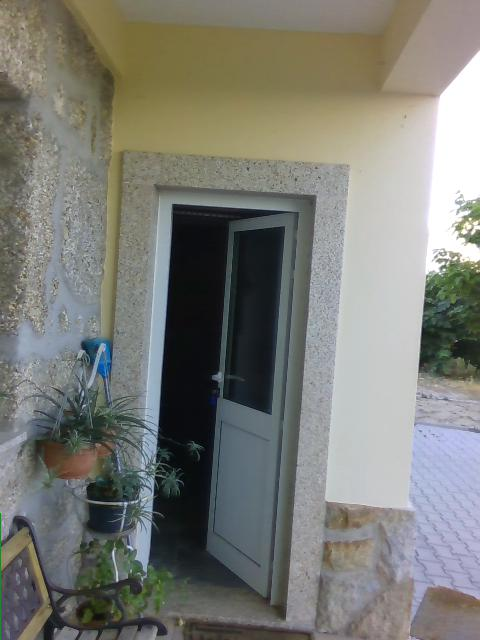semi_door: (134, 180, 315, 610)
